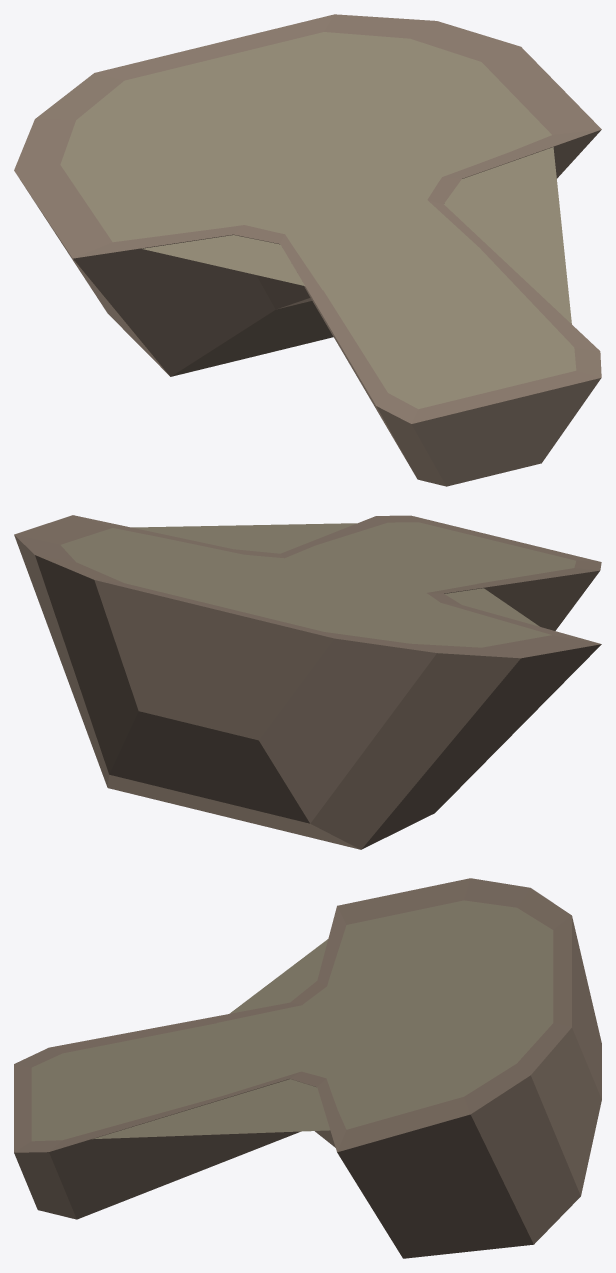
File: Mushroom_Sliced.glb
3 views of the same model, one above another, from view 1: azimuth 30°, elevation 25°; view 2: azimuth 150°, elevation 25°; view 3: azimuth 270°, elevation 25° (orthographic). The views are drawn at different scales.
Visible parts, largest first — view 1: Mushroom_Sliced; view 2: Mushroom_Sliced; view 3: Mushroom_Sliced.
Part boxes in pixels (x1,y1,x2,y2): Mushroom_Sliced: (14, 14, 601, 486); Mushroom_Sliced: (14, 515, 601, 849); Mushroom_Sliced: (14, 878, 601, 1258).
Bounding box in the file's own units: 0.0455 × 0.0194 × 0.0458.
